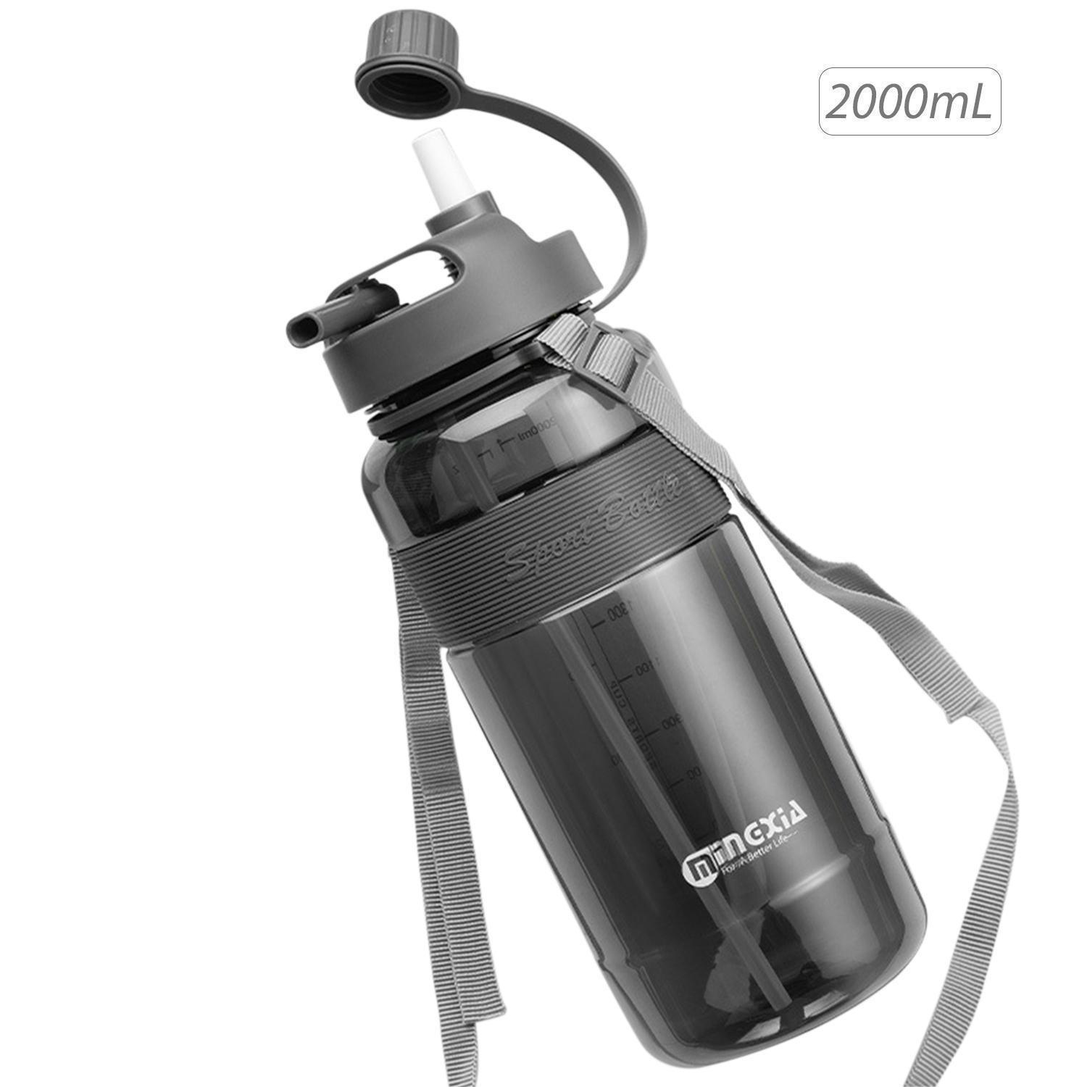gym bottle: (286, 133, 931, 1069)
